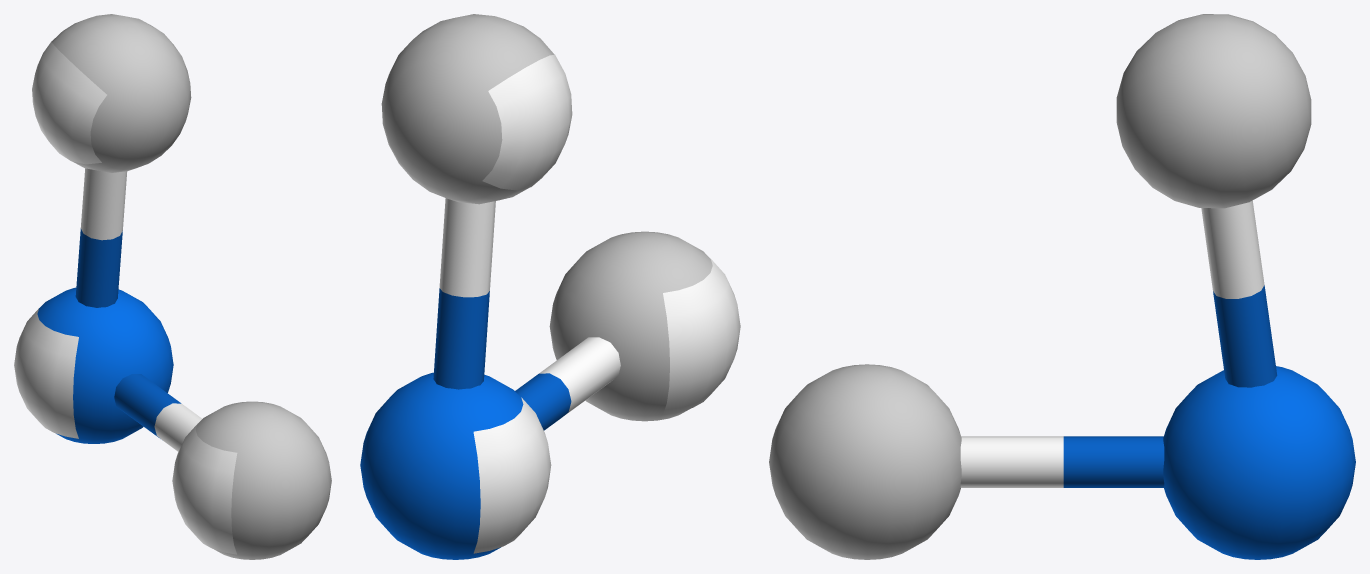
File: hx_hxyq_h2o.FBX
3 views of the same model, side by side, from view 1: azimuth 30°, elevation 25°; view 2: azimuth 150°, elevation 25°; view 3: azimuth 270°, elevation 25° (orthographic). The views are drawn at different scales.
Visible parts, largest first — view 1: Q001, Q002, Q, G001, Y_H001, Y_O, Y_H, G; view 2: Q002, Q, Q001, G001, Y_H001, Y_O, Y_H, G; view 3: Q002, Q001, Q, G, G001.
Boxes of the visible parts, x1,y1,x2,y2 form: Q001: [195, 401, 331, 559]; Q002: [51, 14, 191, 172]; Q: [37, 287, 173, 443]; G001: [75, 168, 127, 307]; Y_H001: [32, 41, 106, 164]; Y_O: [14, 308, 78, 438]; Y_H: [172, 424, 237, 554]; G: [114, 374, 202, 451]; Q002: [381, 14, 554, 204]; Q: [360, 372, 523, 559]; Q001: [549, 231, 712, 421]; G001: [433, 198, 495, 389]; Y_H001: [482, 54, 572, 190]; Y_O: [473, 397, 551, 553]; Y_H: [663, 259, 740, 414]; G: [515, 337, 620, 430]; Q002: [1116, 14, 1311, 208]; Q001: [769, 364, 961, 559]; Q: [1163, 366, 1355, 559]; G: [960, 436, 1164, 487]; G001: [1201, 200, 1277, 387].
Bounding box in the file's own units: 3.01 × 8.9 × 8.97.
6 materials, 2 textured.
